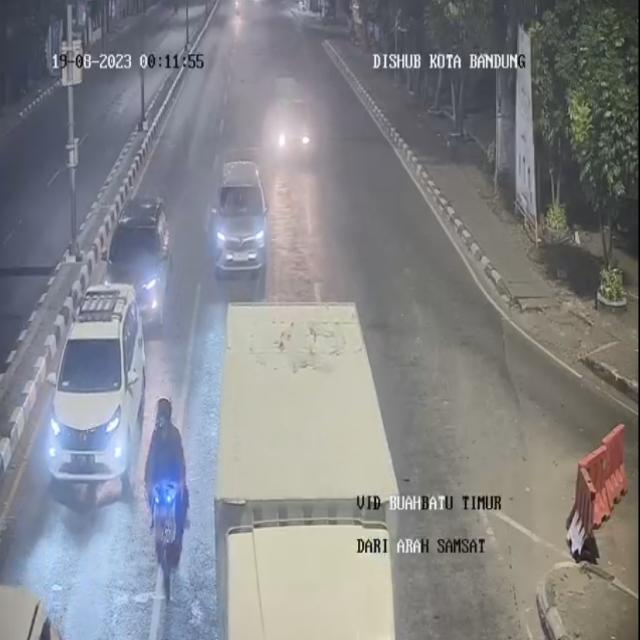cars: (43, 279, 144, 502), (111, 194, 175, 334), (215, 156, 273, 280), (266, 98, 318, 174), (0, 583, 57, 639)
motorcycle: (144, 395, 193, 568)
truck: (221, 302, 396, 640)
